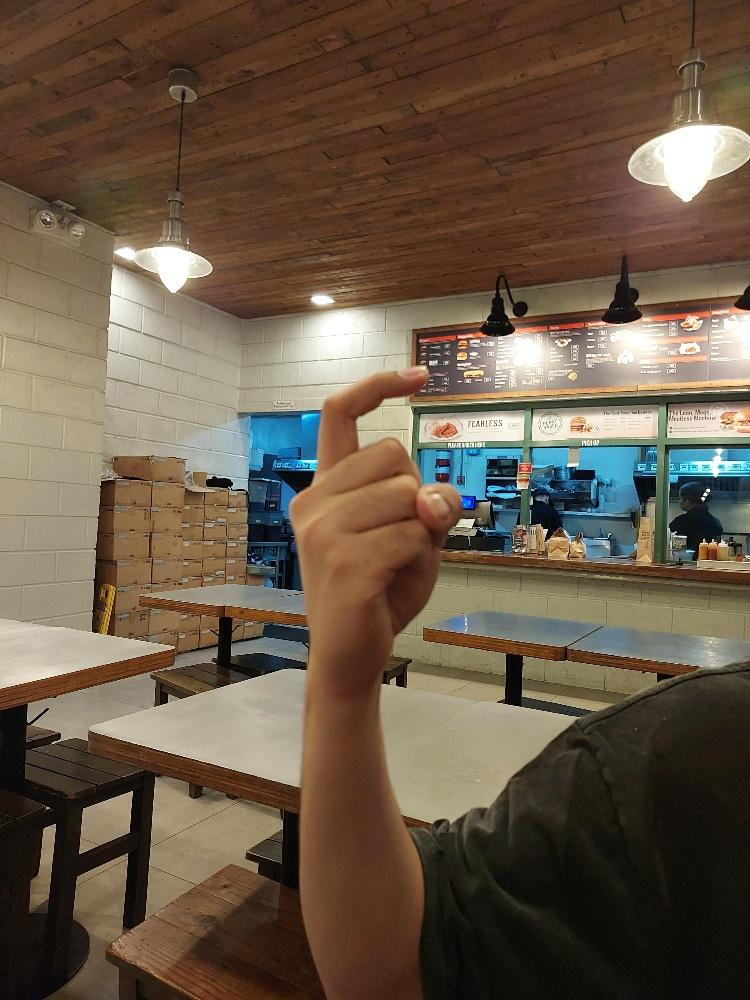x: (285, 361, 465, 695)
